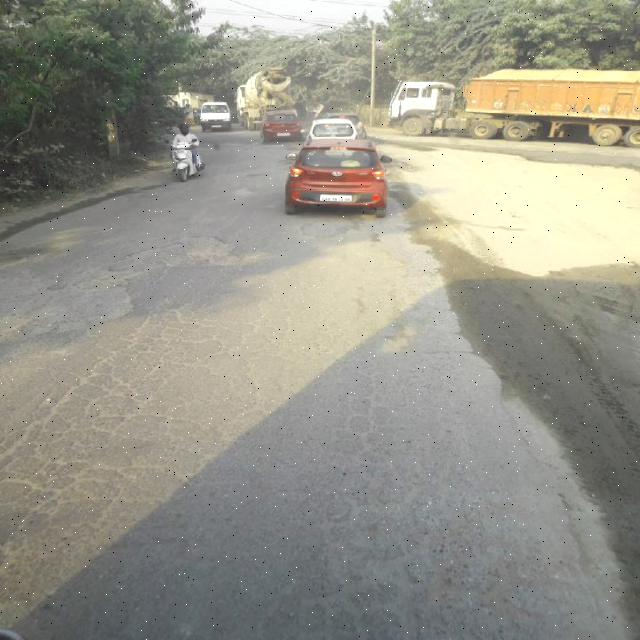D20: (1, 275, 535, 638)
D40: (110, 220, 252, 274), (1, 268, 143, 322), (338, 235, 412, 337)
